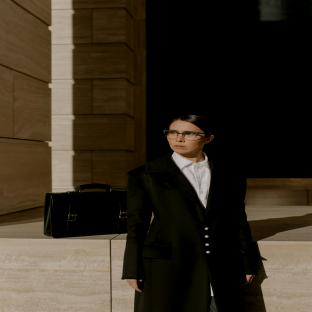Human: (122, 115, 257, 312)
